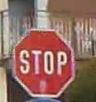stop: (10, 24, 74, 97)
